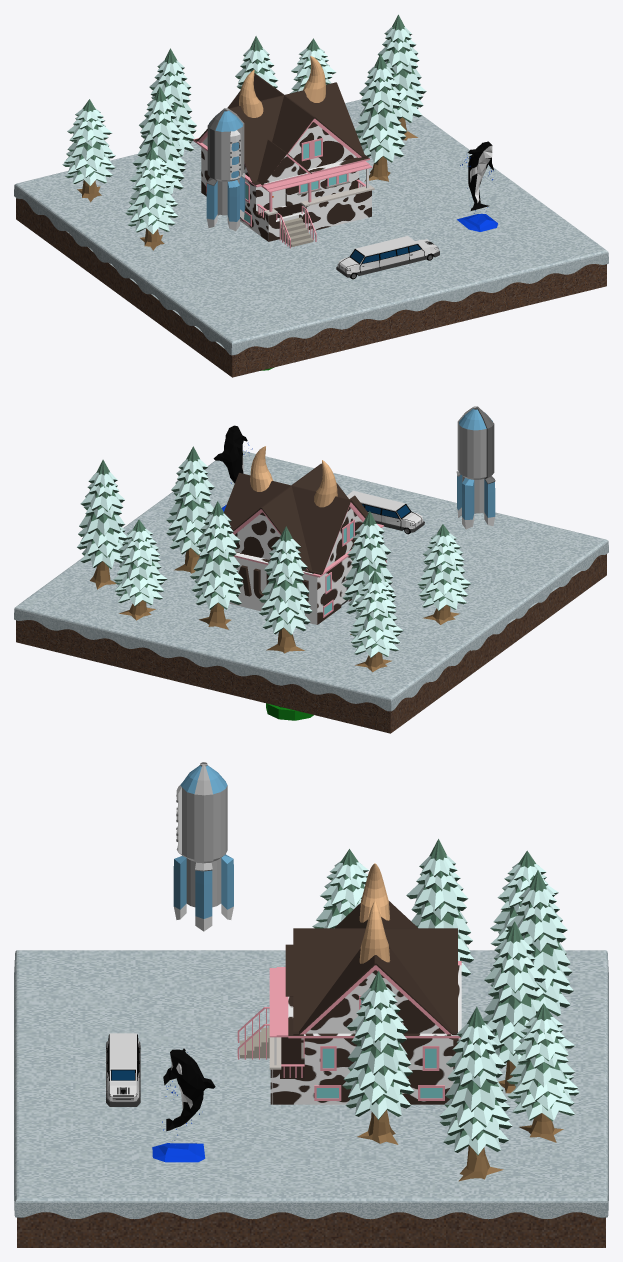
3 renders of one model, top to bottom at view 1: azimuth 30°, elevation 25°; view 2: azimuth 150°, elevation 25°; view 3: azimuth 270°, elevation 25°, orthographic. The views are drawn at different scales.
Parts seen in each view (by area): view 1: Cube.003, Cube.1242, OBJRANDOM_ROCKETSHIP, VEHICLES_LIMOUSINE, ANIMAL_ORCA; view 2: Cube.003, Cube.1242, OBJRANDOM_ROCKETSHIP, VEHICLES_LIMOUSINE, ANIMAL_ORCA, UNDERGROUND_PIPES; view 3: Cube.003, Cube.1242, OBJRANDOM_ROCKETSHIP, ANIMAL_ORCA, VEHICLES_LIMOUSINE.
Part boxes in pixels (bbox=[...]): Cube.003: bbox=[14, 14, 608, 377]; Cube.1242: bbox=[193, 56, 374, 248]; OBJRANDOM_ROCKETSHIP: bbox=[206, 108, 245, 231]; VEHICLES_LIMOUSINE: bbox=[336, 236, 439, 279]; ANIMAL_ORCA: bbox=[457, 141, 497, 231]; Cube.003: bbox=[14, 446, 608, 733]; Cube.1242: bbox=[224, 446, 386, 624]; OBJRANDOM_ROCKETSHIP: bbox=[456, 406, 495, 529]; VEHICLES_LIMOUSINE: bbox=[346, 490, 424, 534]; ANIMAL_ORCA: bbox=[213, 425, 252, 511]; UNDERGROUND_PIPES: bbox=[266, 703, 313, 720]; Cube.003: bbox=[14, 839, 608, 1247]; Cube.1242: bbox=[237, 863, 461, 1104]; OBJRANDOM_ROCKETSHIP: bbox=[173, 762, 233, 931]; ANIMAL_ORCA: bbox=[152, 1048, 215, 1162]; VEHICLES_LIMOUSINE: bbox=[106, 1033, 140, 1106].
Size of the model in its own units: 4040 by 2735 by 4040.
35 materials, 3 textured.
